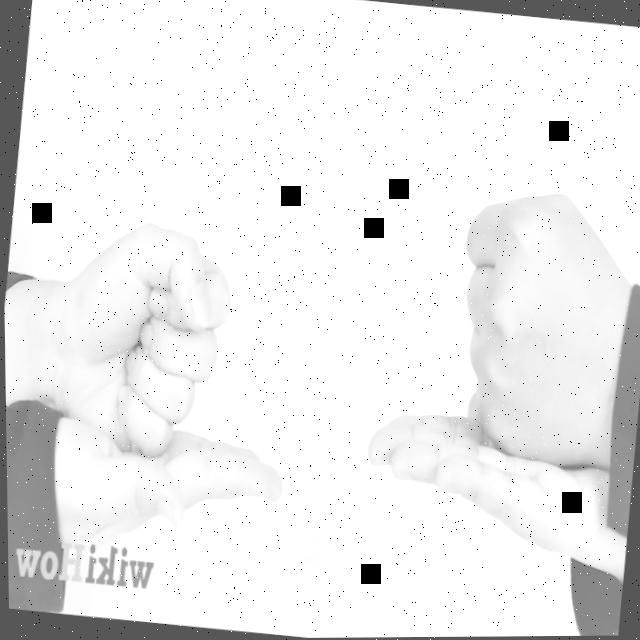Rock: (443, 182, 640, 470), (52, 208, 239, 467)
